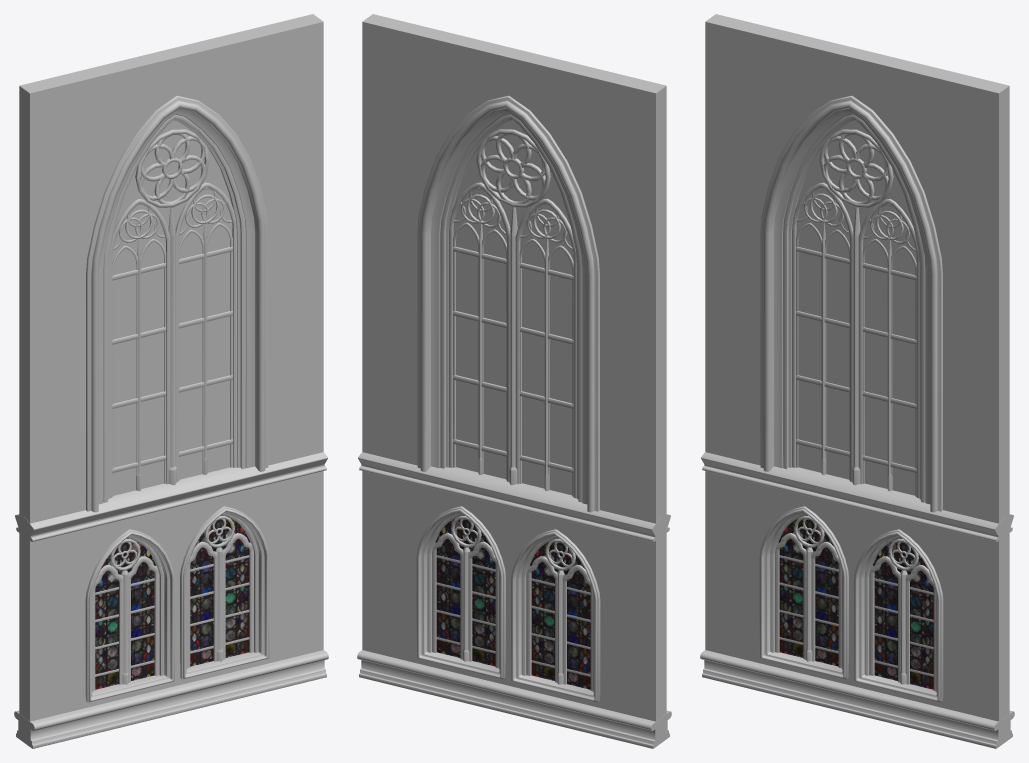
Rendered from Wall_B.fbx.
The picture shows the model from 3 angles, left to right: view 1: azimuth 30°, elevation 25°; view 2: azimuth 150°, elevation 25°; view 3: azimuth 330°, elevation 25°; orthographic projection.
Visible parts, largest first — view 1: Wall_B, Wall_B_Glass; view 2: Wall_B, Wall_B_Glass; view 3: Wall_B, Wall_B_Glass.
Part boxes in pixels (x1,y1,x2,y2): Wall_B: (14,14,328,748); Wall_B_Glass: (95,120,250,689); Wall_B: (357,14,671,748); Wall_B_Glass: (435,120,590,689); Wall_B: (700,14,1014,748); Wall_B_Glass: (778,120,933,689).
Bounding box in the file's own units: 8.01 × 17 × 0.9761.
